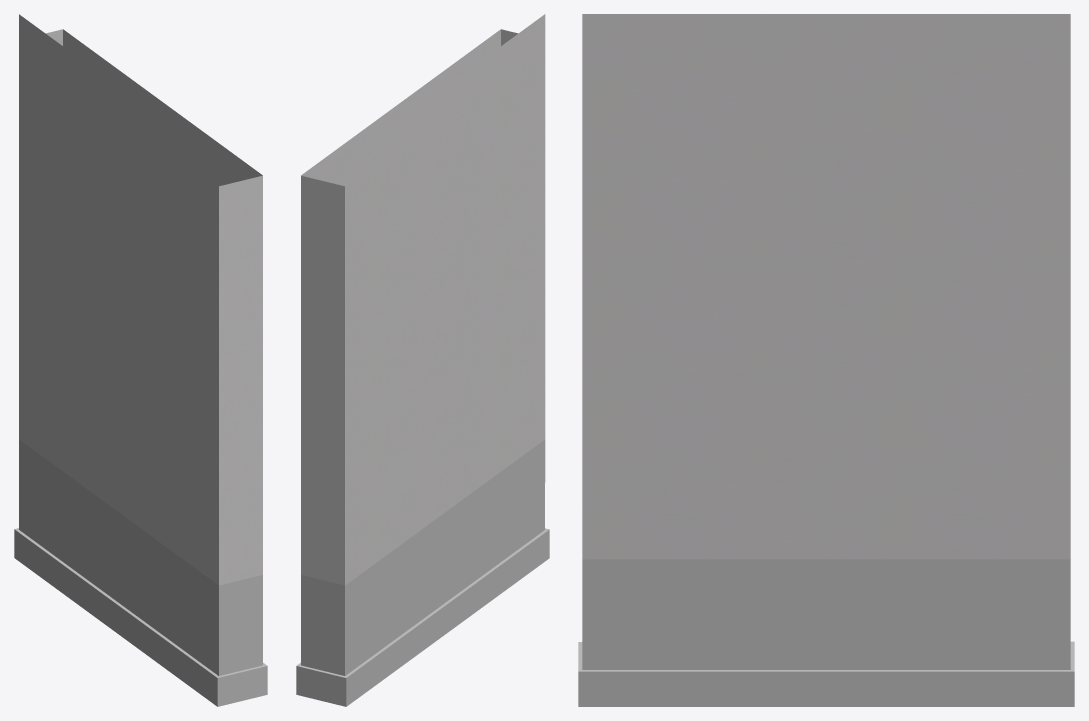
The model's file is SM_Wall_Stone_14.fbx.
3 renders of one model, left to right at view 1: azimuth 30°, elevation 25°; view 2: azimuth 150°, elevation 25°; view 3: azimuth 270°, elevation 25°, orthographic. The views are drawn at different scales.
Parts seen in each view (by area): view 1: SM_Wall_Stone_14; view 2: SM_Wall_Stone_14; view 3: SM_Wall_Stone_14.
Part boxes in pixels (<box>): SM_Wall_Stone_14: <box>14,14,267,706</box>; SM_Wall_Stone_14: <box>296,14,549,706</box>; SM_Wall_Stone_14: <box>578,14,1074,706</box>.
Bounding box in the file's own units: 47.44 × 334 × 493.
